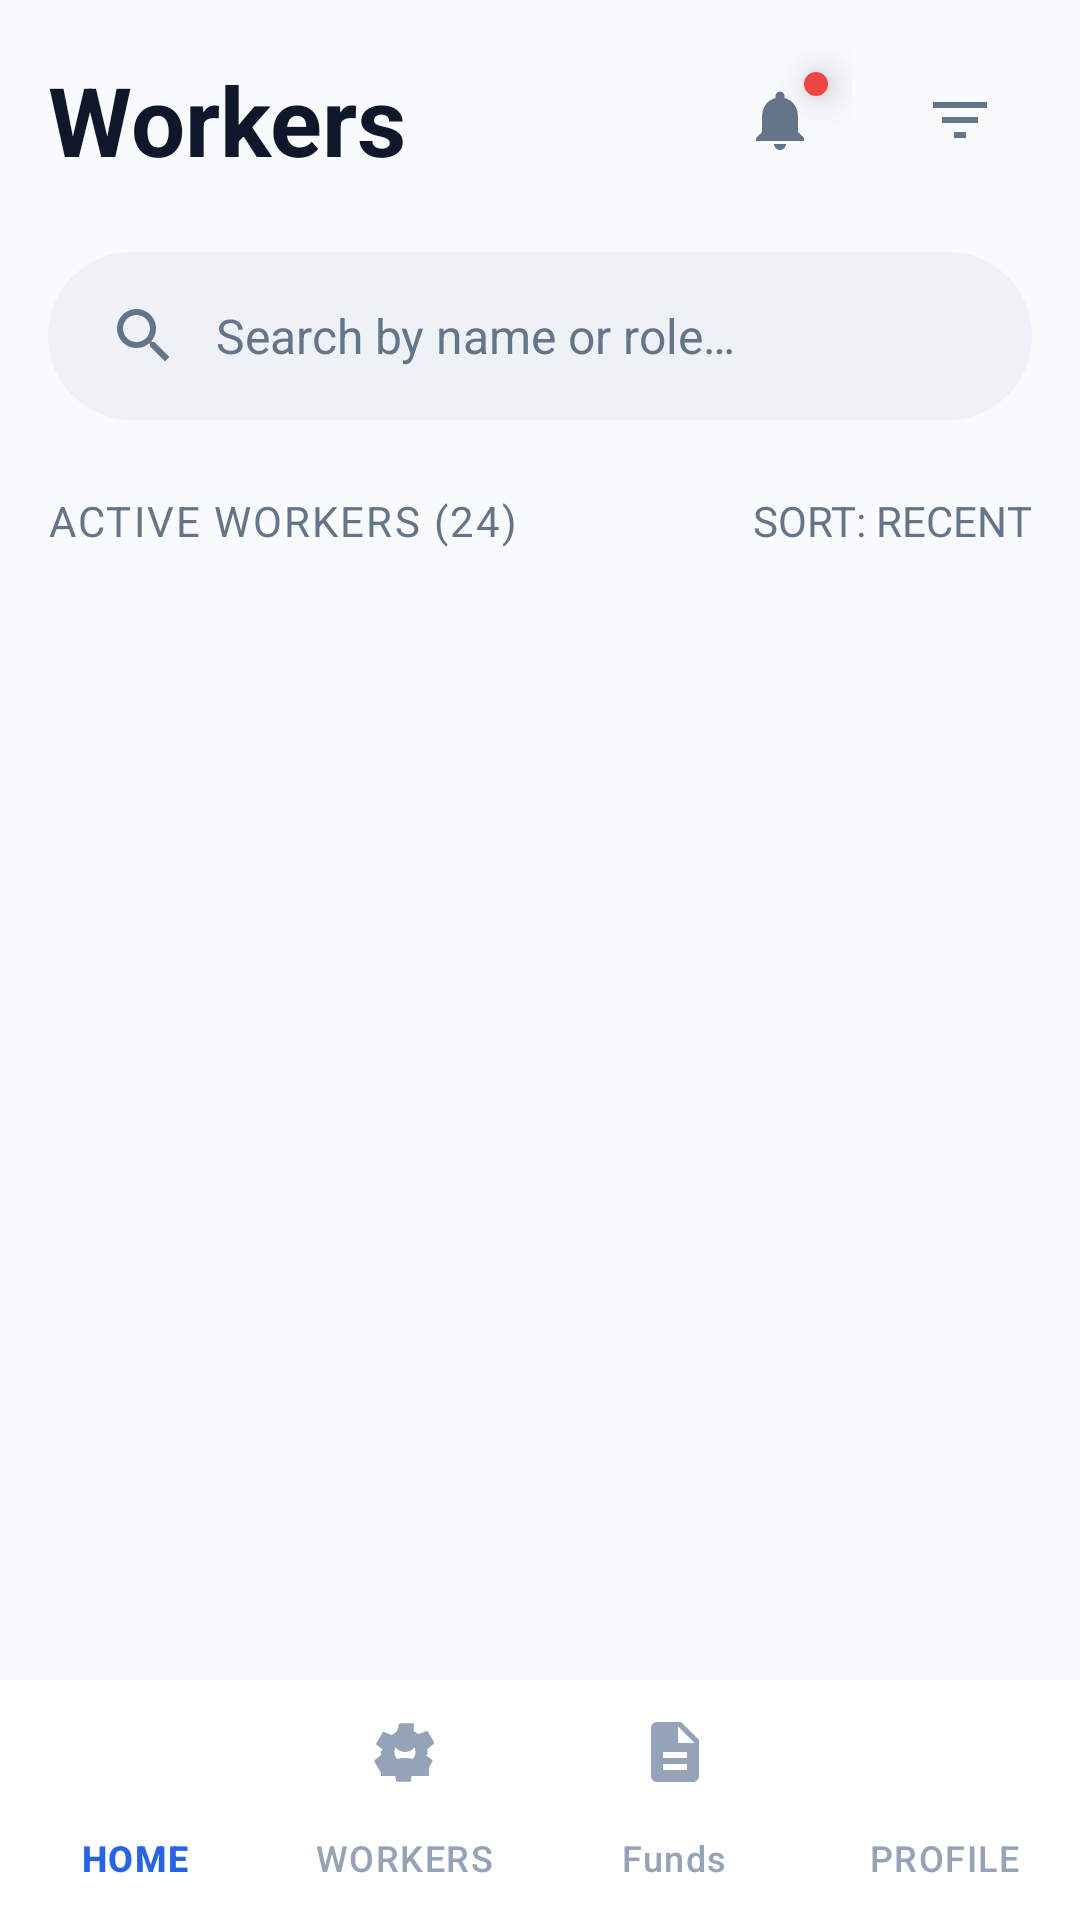

Named icons in this screenshot (1080x1920) and their bounding boxes, {"x1": x1, "y1": y1, "x2": x2, "y2": y2}:
Filter: {"x1": 933, "y1": 102, "x2": 987, "y2": 138}
Notifications: {"x1": 756, "y1": 91, "x2": 804, "y2": 150}
